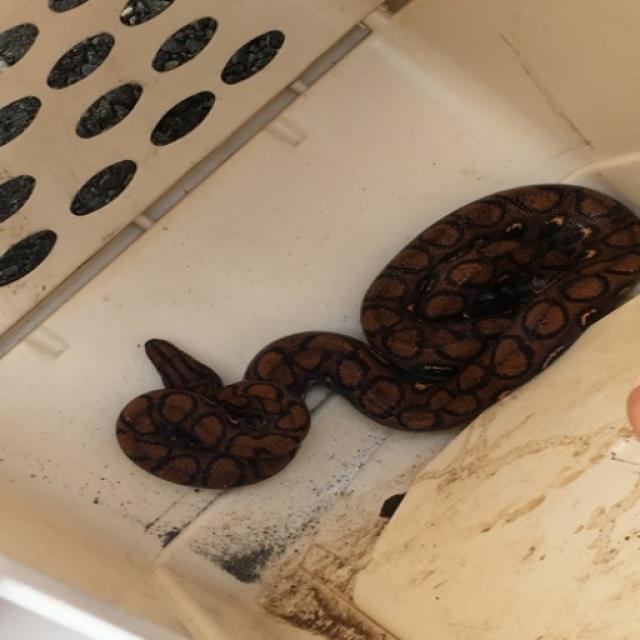snake: (94, 172, 640, 518)
